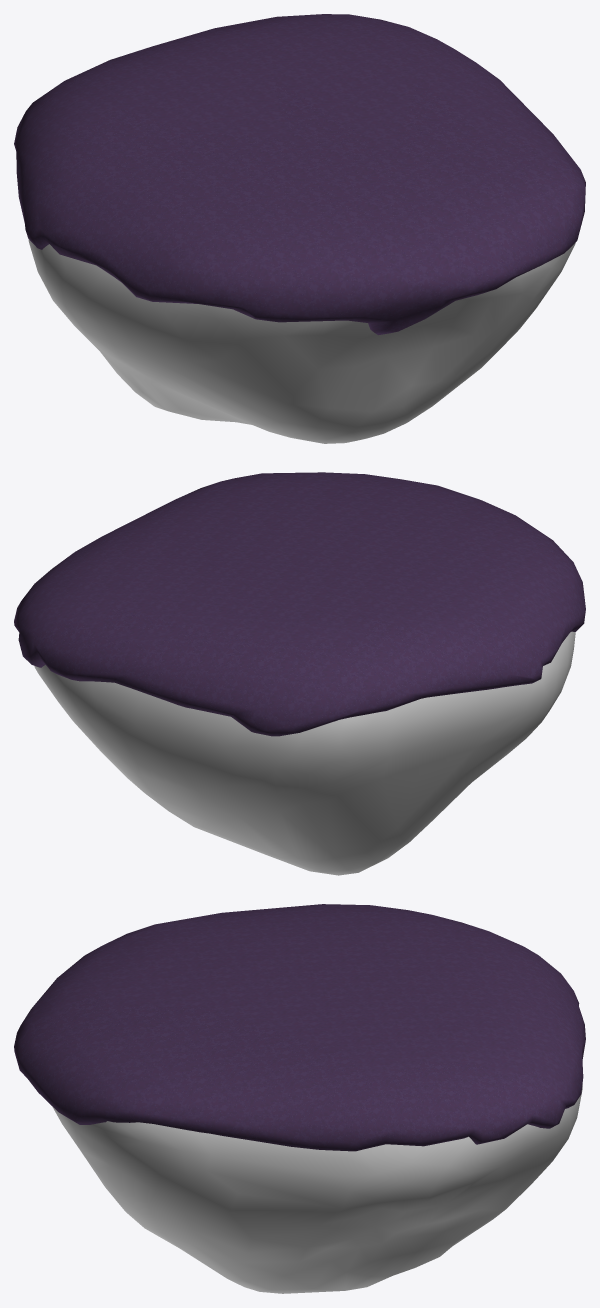
File: Island1.fbx
3 renders of one model, top to bottom at view 1: azimuth 30°, elevation 25°; view 2: azimuth 150°, elevation 25°; view 3: azimuth 270°, elevation 25°, orthographic. The views are drawn at different scales.
Parts seen in each view (by area): view 1: Island1; view 2: Island1; view 3: Island1.
Boxes of the visible parts, bbox=[...] form: Island1: bbox=[14, 14, 585, 443]; Island1: bbox=[14, 472, 585, 875]; Island1: bbox=[14, 904, 585, 1293].
Bounding box in the file's own units: 339 × 200 × 360.
